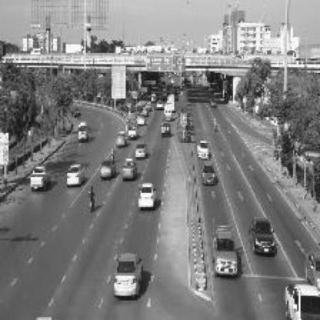other: (194, 157, 220, 185)
